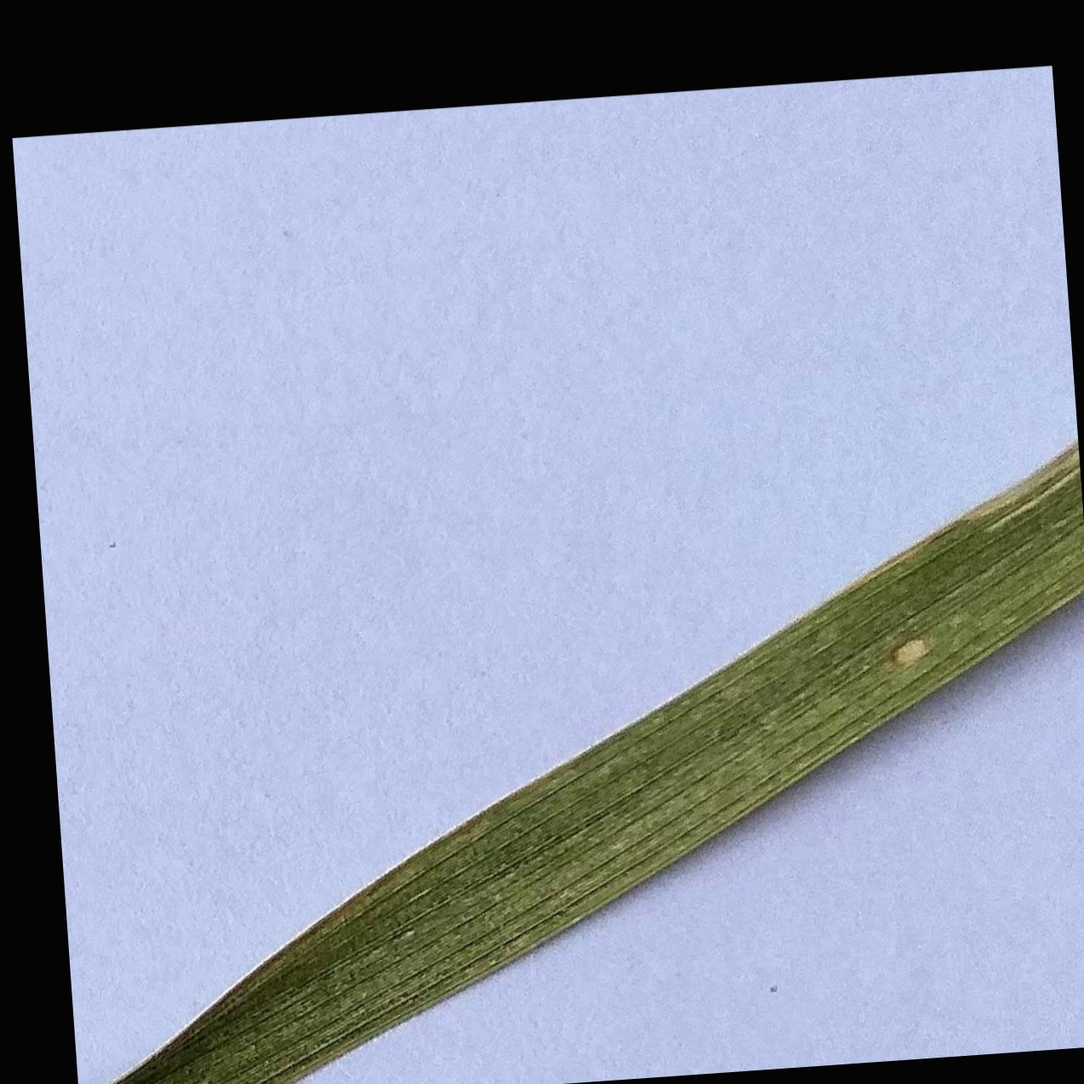Brown_Spot: (871, 606, 937, 674)
